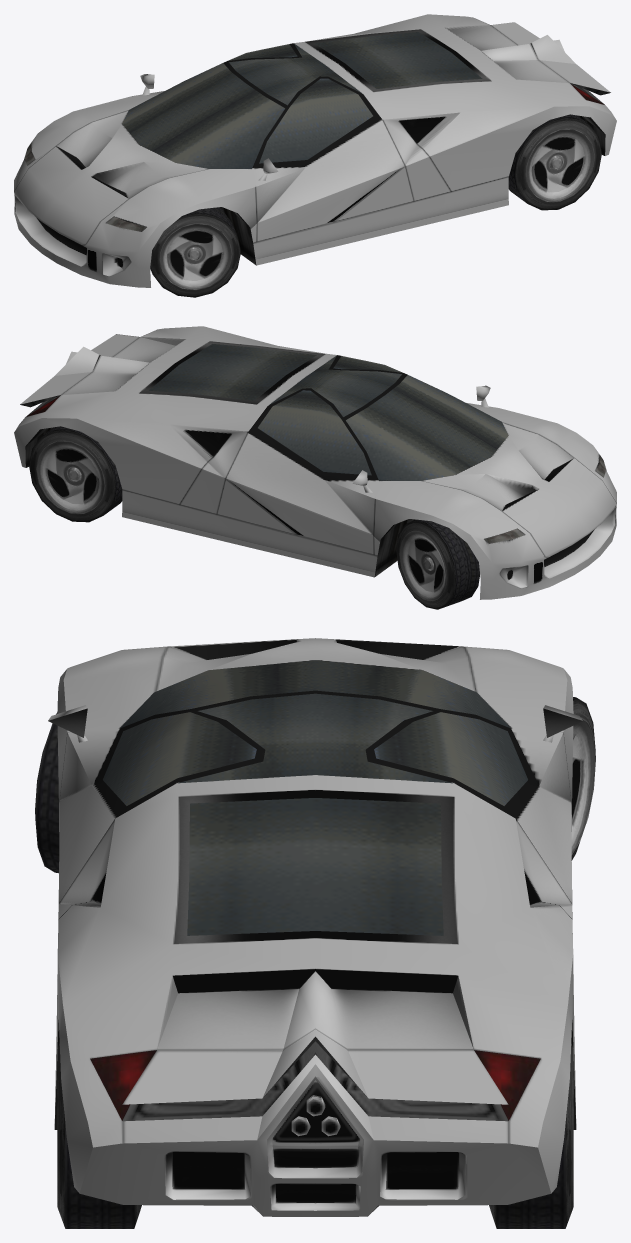
The model's file is paragon95.glb.
3 renders of one model, top to bottom at view 1: azimuth 30°, elevation 25°; view 2: azimuth 150°, elevation 25°; view 3: azimuth 270°, elevation 25°, orthographic. The views are drawn at different scales.
Parts seen in each view (by area): view 1: Body_Body_0, Glass_GT1_Glass_Clean_0, Wheel_RL_Material #37_0, Wheel_FL_Material #37_0, Spoiler_Body_0, Bottom_gt1_Bottom_0, Glass_Headlights_gt1_headlights_2_0; view 2: Body_Body_0, Glass_GT1_Glass_Clean_0, Wheel_RR_Material #37_0, Wheel_FR_Material #37_0, Spoiler_Body_0, Bottom_gt1_Bottom_0, Glass_Headlights_gt1_headlights_2_0; view 3: Body_Body_0, Glass_GT1_Glass_Clean_0, Spoiler_Body_0, Bottom_gt1_Bottom_0, Glass_Stoplights_gt1_headlights_2_0, Wheel_RL_Material #37_0, Wheel_RR_Material #37_0, Wheel_FL_Material #37_0, Wheel_FR_Material #37_0.
Part boxes in pixels (x1,y1,x2,y2): Body_Body_0: (14,14,616,287); Glass_GT1_Glass_Clean_0: (122,32,482,168); Wheel_RL_Material #37_0: (508,114,601,210); Wheel_FL_Material #37_0: (150,207,240,297); Spoiler_Body_0: (491,22,610,92); Bottom_gt1_Bottom_0: (218,44,605,265); Glass_Headlights_gt1_headlights_2_0: (25,143,146,231); Body_Body_0: (14,326,616,599); Glass_GT1_Glass_Clean_0: (149,344,508,480); Wheel_RR_Material #37_0: (29,426,122,522); Wheel_FR_Material #37_0: (396,519,479,609); Spoiler_Body_0: (20,334,139,404); Bottom_gt1_Bottom_0: (25,356,415,576); Glass_Headlights_gt1_headlights_2_0: (484,455,605,543); Body_Body_0: (48,638,582,1216); Glass_GT1_Glass_Clean_0: (103,660,527,935); Spoiler_Body_0: (122,1029,508,1104); Bottom_gt1_Bottom_0: (54,1020,576,1215); Glass_Stoplights_gt1_headlights_2_0: (90,1050,540,1120); Wheel_RL_Material #37_0: (57,1044,141,1228); Wheel_RR_Material #37_0: (489,1044,573,1228); Wheel_FL_Material #37_0: (35,712,59,873); Wheel_FR_Material #37_0: (571,697,595,860).
Bounding box in the file's own units: 4.46 × 1.18 × 2.07.
5 materials, 5 textured.
